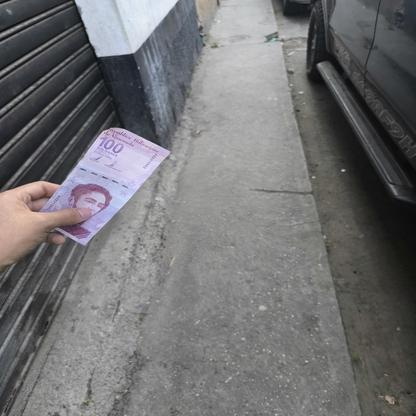one_hundred-front-vef: (36, 126, 170, 246)
